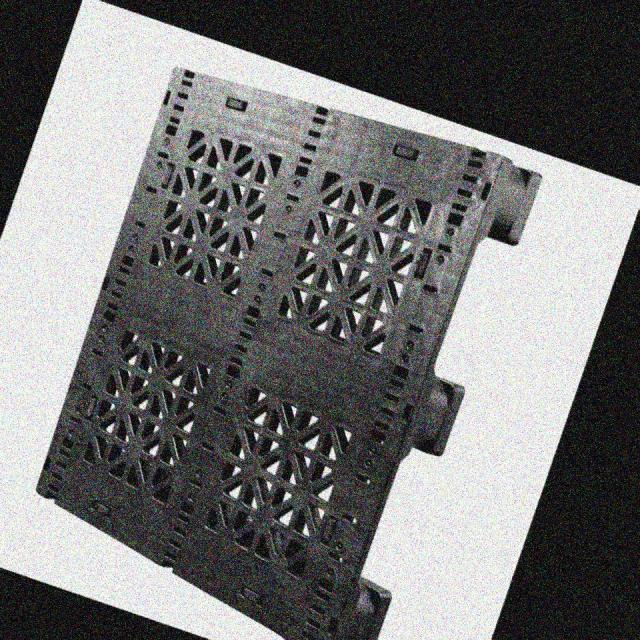non-igps: (29, 59, 549, 640)
